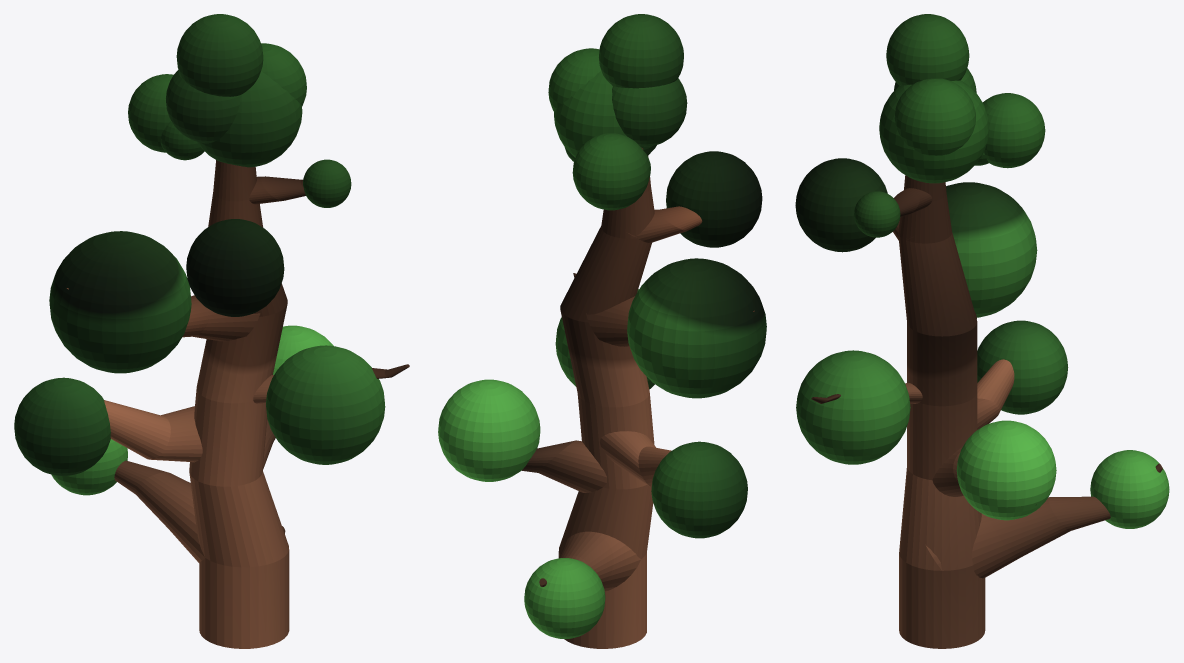
File: env_tree_Chris_05.glb
The picture shows the model from 3 angles, left to right: view 1: azimuth 30°, elevation 25°; view 2: azimuth 150°, elevation 25°; view 3: azimuth 270°, elevation 25°; orthographic projection. The views are drawn at different scales.
Visible parts, largest first — view 1: Cylinder, Sphere, Sphere.020, Sphere.002, Sphere.014, Sphere.010, Sphere.013, Sphere.011, Sphere.008, Sphere.006, Sphere.024, Sphere.012 (+2 smaller); view 2: Cylinder, Sphere, Sphere.018, Sphere.014, Sphere.002, Sphere.010, Sphere.024, Sphere.008, Sphere.011, Sphere.013, Sphere.012, Sphere.020; view 3: Cylinder, Sphere.020, Sphere, Sphere.018, Sphere.014, Sphere.002, Sphere.012, Sphere.010, Sphere.024, Sphere.013, Sphere.008, Sphere.006.
Boxes of the visible parts, x1,y1,x2,y2 form: Cylinder: (66, 160, 409, 648); Sphere: (49, 231, 191, 373); Sphere.020: (266, 345, 385, 464); Sphere.002: (186, 219, 284, 316); Sphere.014: (14, 377, 110, 475); Sphere.010: (176, 14, 263, 96); Sphere.013: (197, 71, 302, 167); Sphere.011: (166, 70, 241, 143); Sphere.008: (128, 74, 173, 152); Sphere.006: (303, 159, 351, 207); Sphere.024: (51, 439, 127, 495); Sphere.012: (261, 43, 306, 106); Cylinder: (522, 147, 754, 648); Sphere: (627, 258, 766, 398); Sphere.018: (438, 379, 540, 481); Sphere.014: (651, 441, 747, 538); Sphere.002: (666, 151, 762, 247); Sphere.010: (599, 14, 683, 88); Sphere.024: (524, 558, 605, 639); Sphere.008: (572, 133, 649, 210); Sphere.011: (612, 78, 687, 146); Sphere.013: (554, 71, 656, 157); Sphere.012: (548, 48, 601, 111); Sphere.020: (555, 289, 654, 389); Cylinder: (811, 175, 1162, 648); Sphere.020: (796, 350, 910, 464); Sphere: (946, 182, 1037, 317); Sphere.018: (956, 420, 1056, 520); Sphere.014: (977, 320, 1068, 414); Sphere.002: (795, 158, 887, 252); Sphere.012: (894, 78, 975, 155); Sphere.010: (886, 14, 969, 85); Sphere.024: (1090, 450, 1169, 528); Sphere.013: (879, 80, 989, 183); Sphere.008: (982, 93, 1045, 168); Sphere.006: (854, 191, 900, 237).
Bounding box in the file's own units: 7.94 × 15.32 × 8.68.
Materials: 1 (1 with a texture image).
